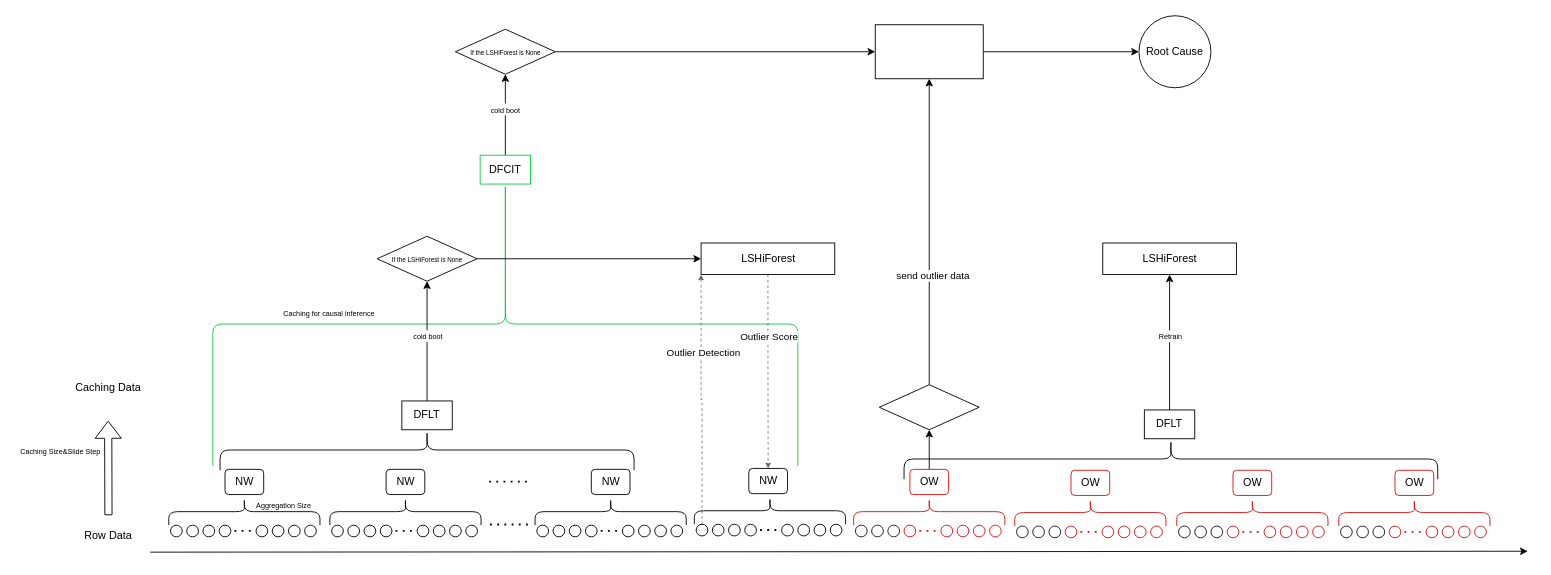
This 1551x575 diagram has some shape labels left out. The centre of each missing label's shape, as x and y in pixels:
"Caching for distribution change" goes at [426,449].
"Causal Inference Model" goes at [928,51].
"DIstribution change" goes at [1170,458].
"If the outlier percentage above threashold" goes at [928,407].
